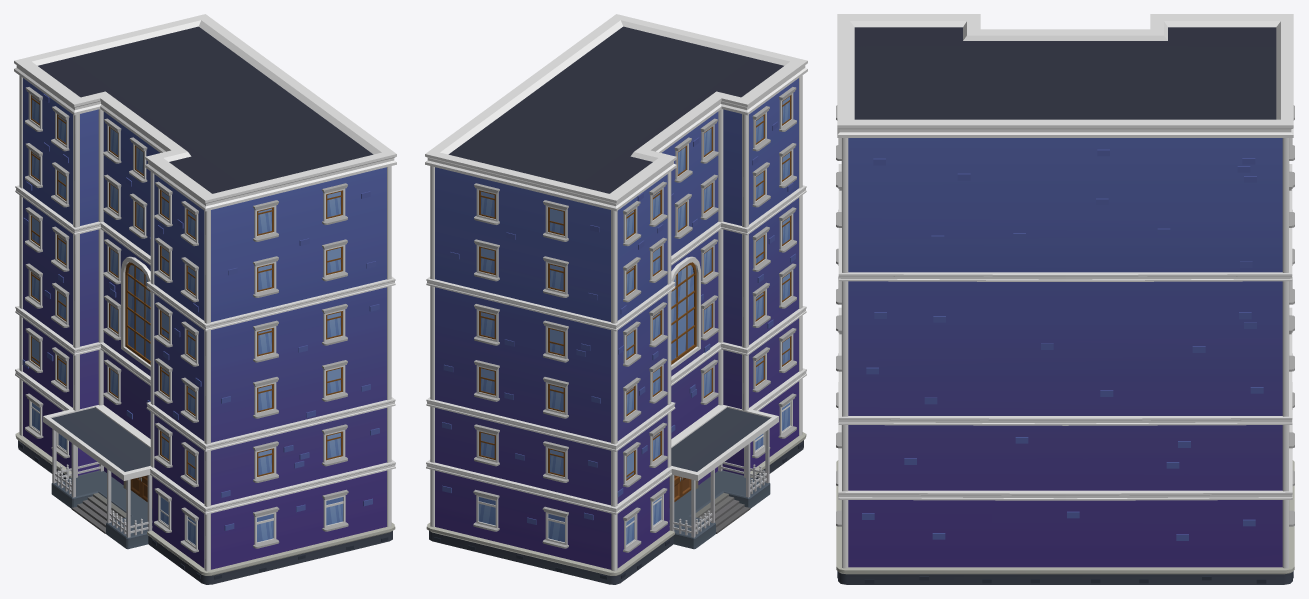
File: Building_5_4_K.fbx
The picture shows the model from 3 angles, left to right: view 1: azimuth 30°, elevation 25°; view 2: azimuth 150°, elevation 25°; view 3: azimuth 270°, elevation 25°; orthographic projection. The views are drawn at different scales.
Visible parts, largest first — view 1: Building_5_4_K; view 2: Building_5_4_K; view 3: Building_5_4_K.
Part boxes in pixels (x1,y1,x2,y2): Building_5_4_K: [14, 14, 396, 584]; Building_5_4_K: [425, 14, 807, 584]; Building_5_4_K: [836, 14, 1294, 584].
Size of the model in its own units: 1251 by 2109 by 1908.
